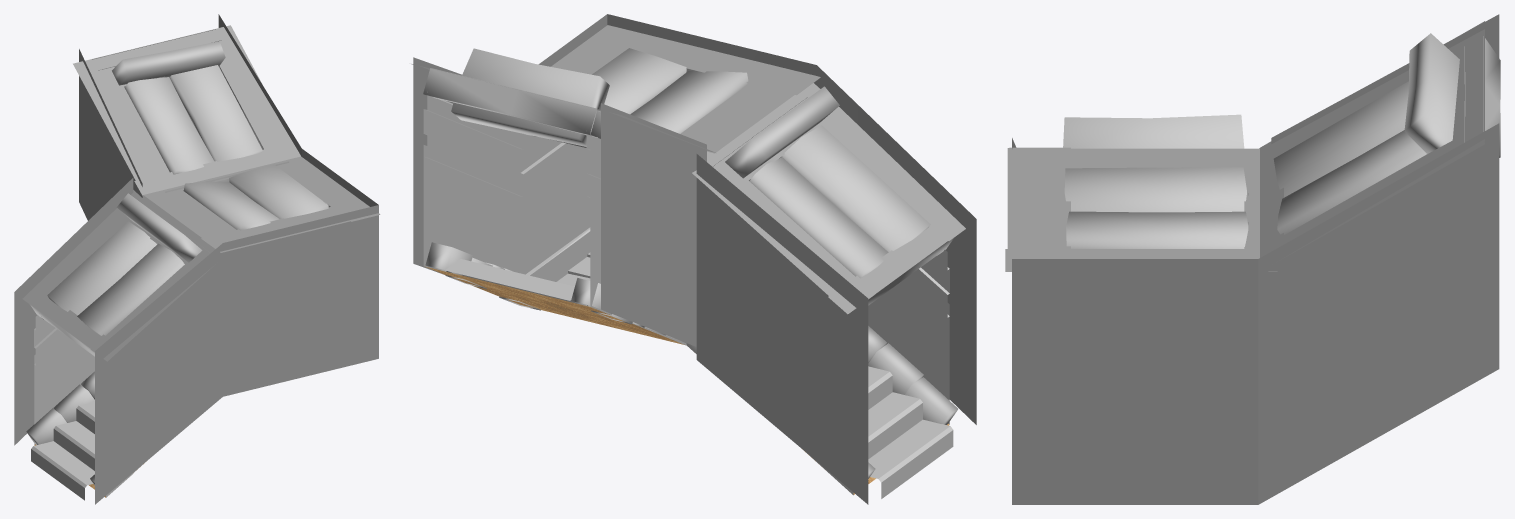
File: Stairs_Turn_Right.fbx
3 renders of one model, left to right at view 1: azimuth 30°, elevation 25°; view 2: azimuth 150°, elevation 25°; view 3: azimuth 270°, elevation 25°, orthographic. The views are drawn at different scales.
Parts seen in each view (by area): view 1: Shadow_caster1, Shadow_Caster_Roof_4m4, Shadow_Caster_Roof_4m, Shadow_Caster_Roof_4m5, Geom_stairs, Geom_Stone_Roof_3, shadow_caster1, Shadow_caster, geom_Stone_Roof_3, geom_Stone_Roof_4, geom_walls, Geom_Stone_Roof_4 (+5 smaller); view 2: Shadow_caster, shadow_caster1, geom_walls3, Shadow_Caster_Roof_4m5, Shadow_caster1, Geom_stairs, Shadow_Caster_Roof_4m, Geom_Stone_Roof_4, Geom_walls, geom_Stone_Roof_2, geom_Stone_Roof_4, geom_walls1 (+10 smaller); view 3: Shadow_caster1, shadow_caster, Shadow_Caster_Roof_4m, Shadow_Caster_Roof_4m4, geom_Stone_Roof_1, Geom_Stone_Roof_2, geom_Stone_Roof_3, geom_Stone_Roof_5, Geom_Stone_Roof_3, geom_Stone_Roof_2, shadow_caster1, Geom_Stone_Roof_Border1.
Boxes of the visible parts, box(x1,y1,x2,y2) form: Shadow_caster1: box(95, 149, 378, 504); Shadow_Caster_Roof_4m4: box(73, 25, 300, 195); Shadow_Caster_Roof_4m: box(143, 156, 380, 252); Shadow_Caster_Roof_4m5: box(22, 190, 215, 361); Geom_stairs: box(26, 371, 133, 500); Geom_Stone_Roof_3: box(169, 65, 262, 161); shadow_caster1: box(79, 49, 142, 220); Shadow_caster: box(14, 178, 133, 445); geom_Stone_Roof_3: box(125, 77, 214, 174); geom_Stone_Roof_4: box(47, 221, 156, 315); geom_walls: box(34, 243, 157, 444); Geom_Stone_Roof_4: box(77, 243, 184, 335); Shadow_caster: box(696, 154, 868, 504); shadow_caster1: box(601, 103, 706, 346); geom_walls3: box(423, 92, 523, 273); Shadow_Caster_Roof_4m5: box(692, 83, 965, 314); Shadow_caster1: box(538, 14, 976, 424); Geom_stairs: box(689, 326, 957, 498); Shadow_Caster_Roof_4m: box(551, 25, 820, 153); Geom_Stone_Roof_4: box(781, 125, 930, 252); Geom_walls: box(781, 156, 949, 424); geom_Stone_Roof_2: box(451, 48, 609, 146); geom_Stone_Roof_4: box(749, 157, 888, 278); geom_walls1: box(520, 149, 590, 274); Shadow_caster1: box(1012, 138, 1258, 504); shadow_caster: box(1258, 123, 1499, 504); Shadow_Caster_Roof_4m: box(1005, 147, 1277, 271); Shadow_Caster_Roof_4m4: box(1259, 21, 1484, 264); geom_Stone_Roof_1: box(1064, 167, 1246, 212); Geom_Stone_Roof_2: box(1066, 211, 1248, 248); geom_Stone_Roof_3: box(1273, 81, 1408, 197); geom_Stone_Roof_5: box(1063, 114, 1244, 148); Geom_Stone_Roof_3: box(1277, 130, 1426, 234); geom_Stone_Roof_2: box(1404, 33, 1459, 153); shadow_caster1: box(1271, 14, 1499, 143); Geom_Stone_Roof_Border1: box(1464, 36, 1500, 157).
Size of the model in its own units: 900 by 994 by 864.
